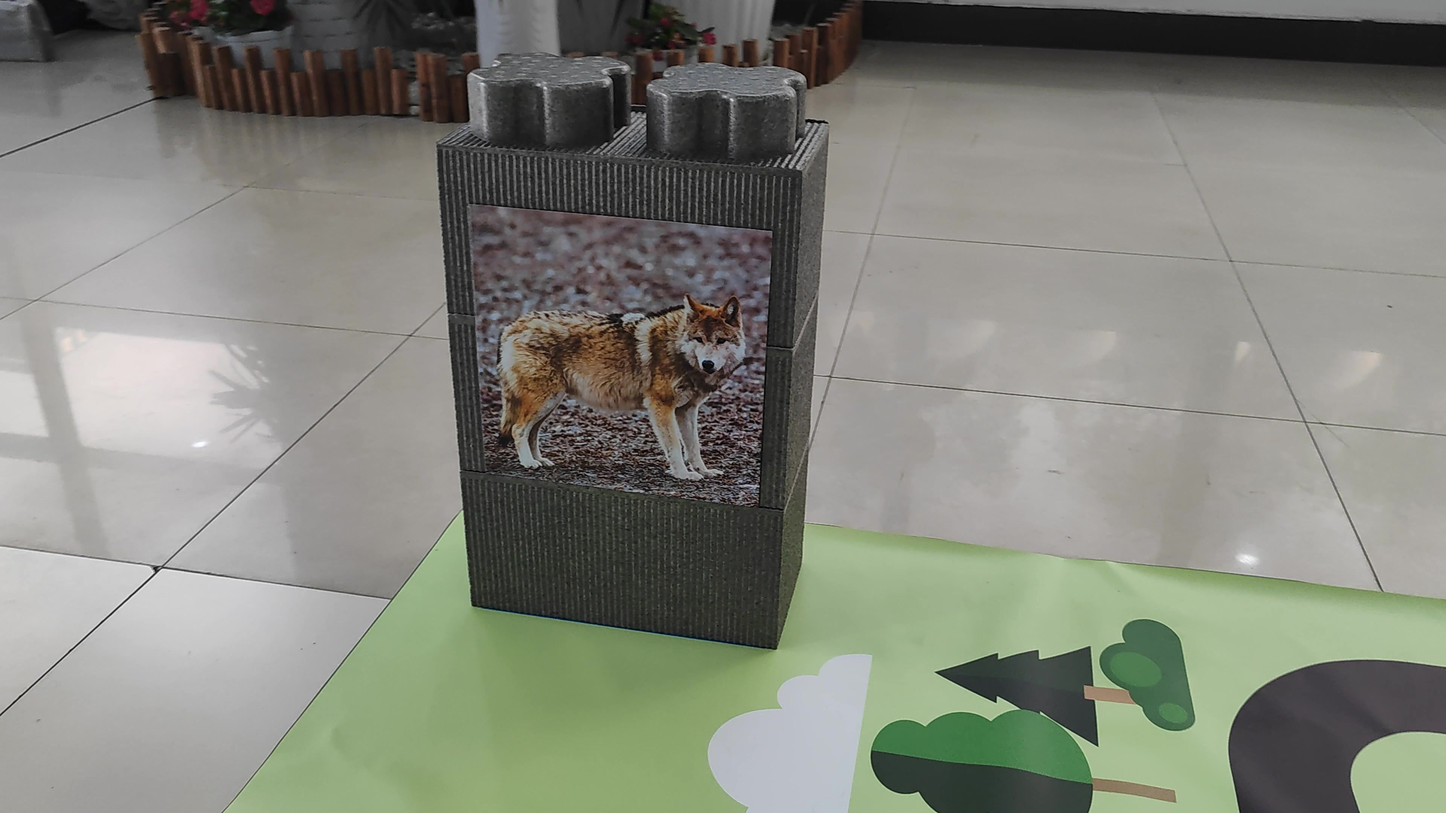wolf: (481, 266, 757, 498)
